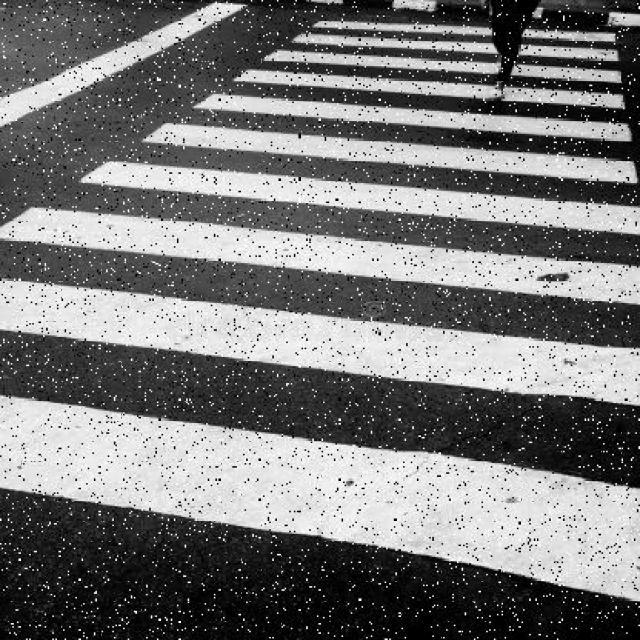crosswalk: (0, 6, 638, 606)
